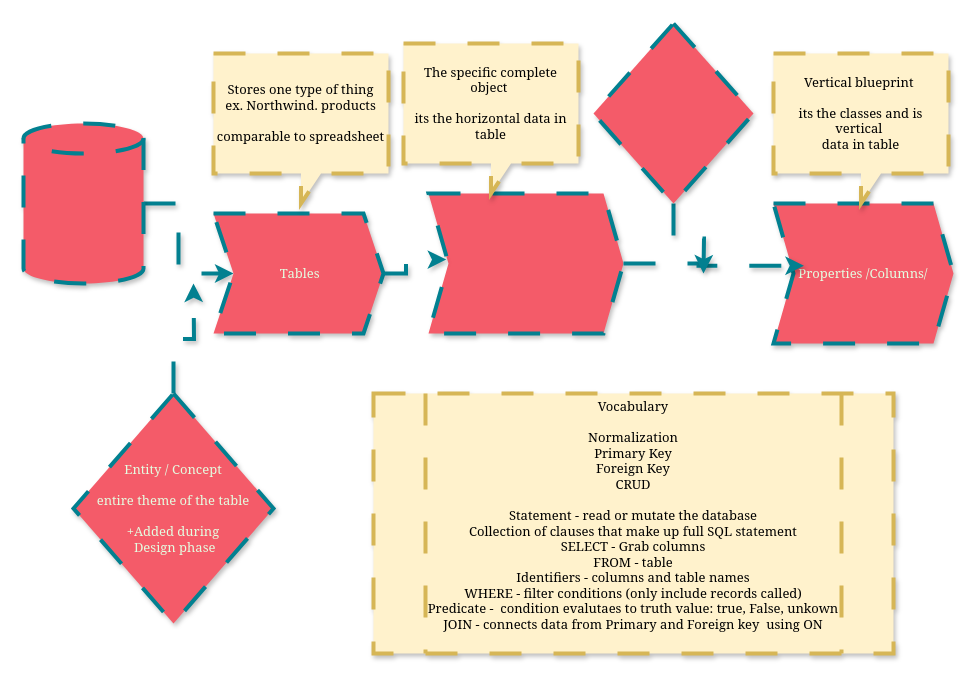
This 978x681 diagram has some shape labels left out. The shapes that lost their labels are listed below. From the top down, each one's centre as x and y in pixels, then its label:
At pixel 674 114: "Field / cell the intersection of record and property".
At pixel 84 204: "Relational Database".
At pixel 526 264: "Records / Rows".
